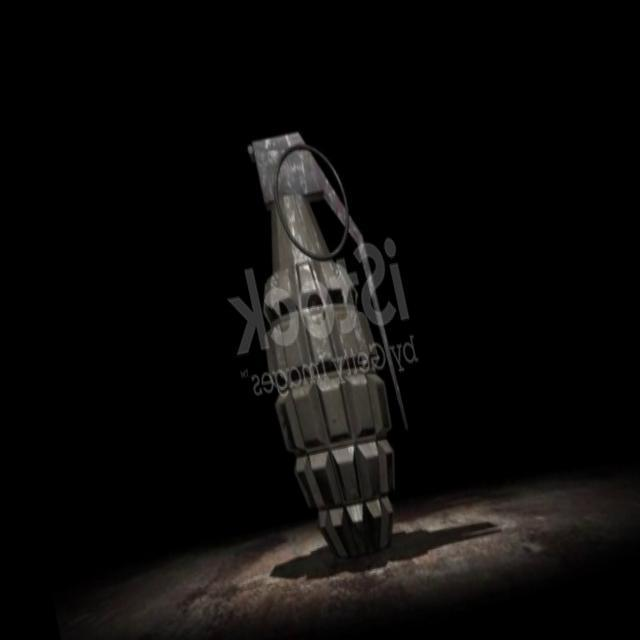grenade: (214, 105, 432, 579)
